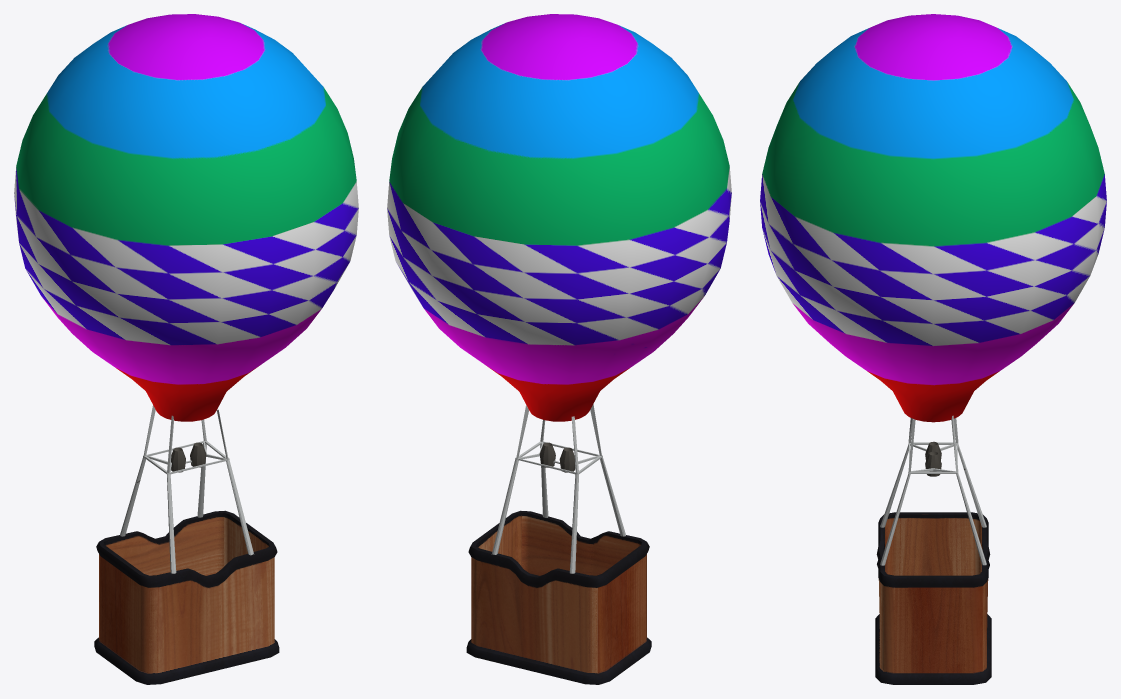
Rendered from globo.gltf.
The picture shows the model from 3 angles, left to right: view 1: azimuth 30°, elevation 25°; view 2: azimuth 150°, elevation 25°; view 3: azimuth 270°, elevation 25°; orthographic projection.
Parts seen in each view (by area): view 1: Object_3, Object_4, Object_2; view 2: Object_3, Object_4, Object_2; view 3: Object_3, Object_4, Object_2.
Part boxes in pixels (x1,y1,x2,y2): Object_3: (14,14,358,421); Object_4: (94,440,279,684); Object_2: (99,405,274,577); Object_3: (387,14,731,421); Object_4: (466,441,651,684); Object_2: (471,404,646,577); Object_3: (760,14,1106,422); Object_4: (875,441,991,684); Object_2: (881,415,985,577).
Size of the model in its own units: 5.37 by 10.61 by 5.37.
Materials: 2 (2 with a texture image).
